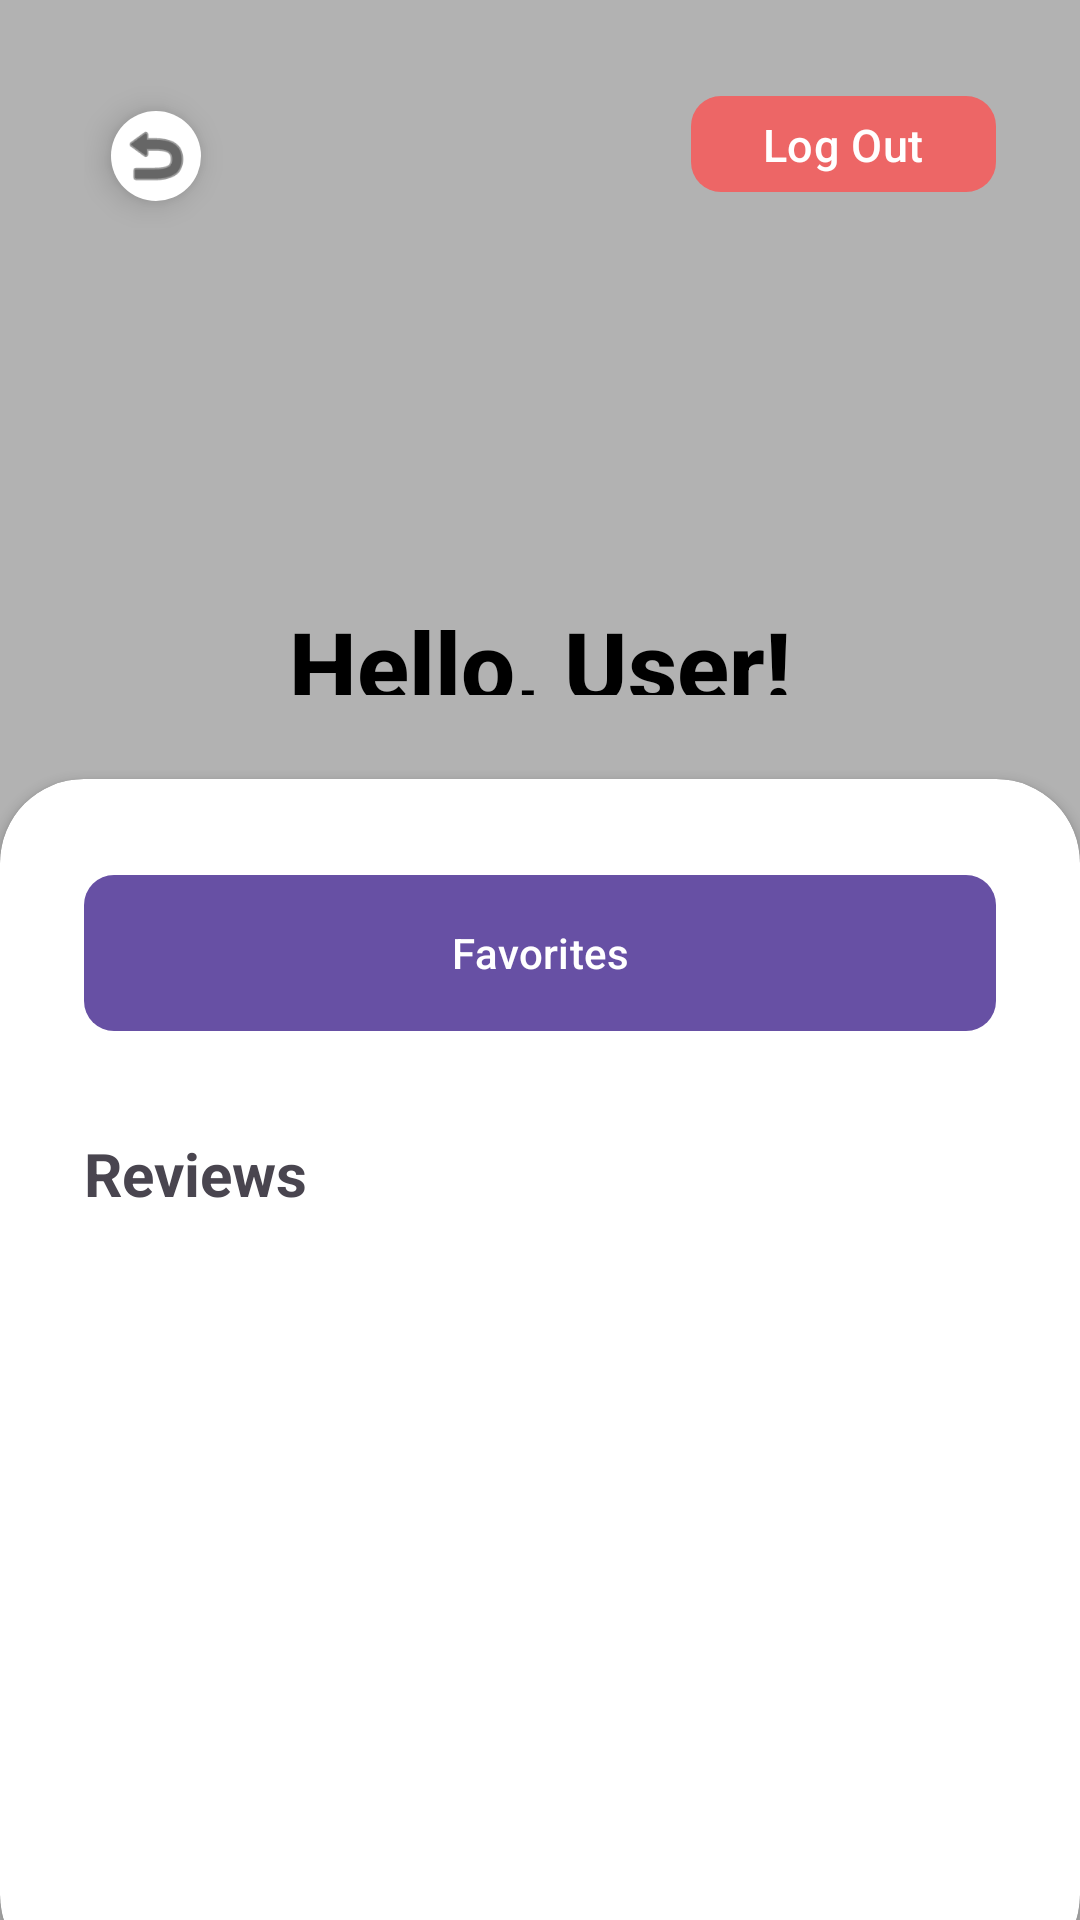

Icons on this 1080w x 1920h Android screen, each with the point to tap as (x,y):
revert: (156,156)
